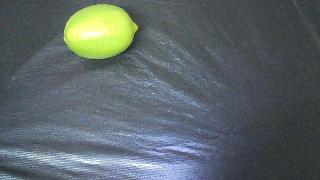LOCAL: (63, 4, 138, 59)
